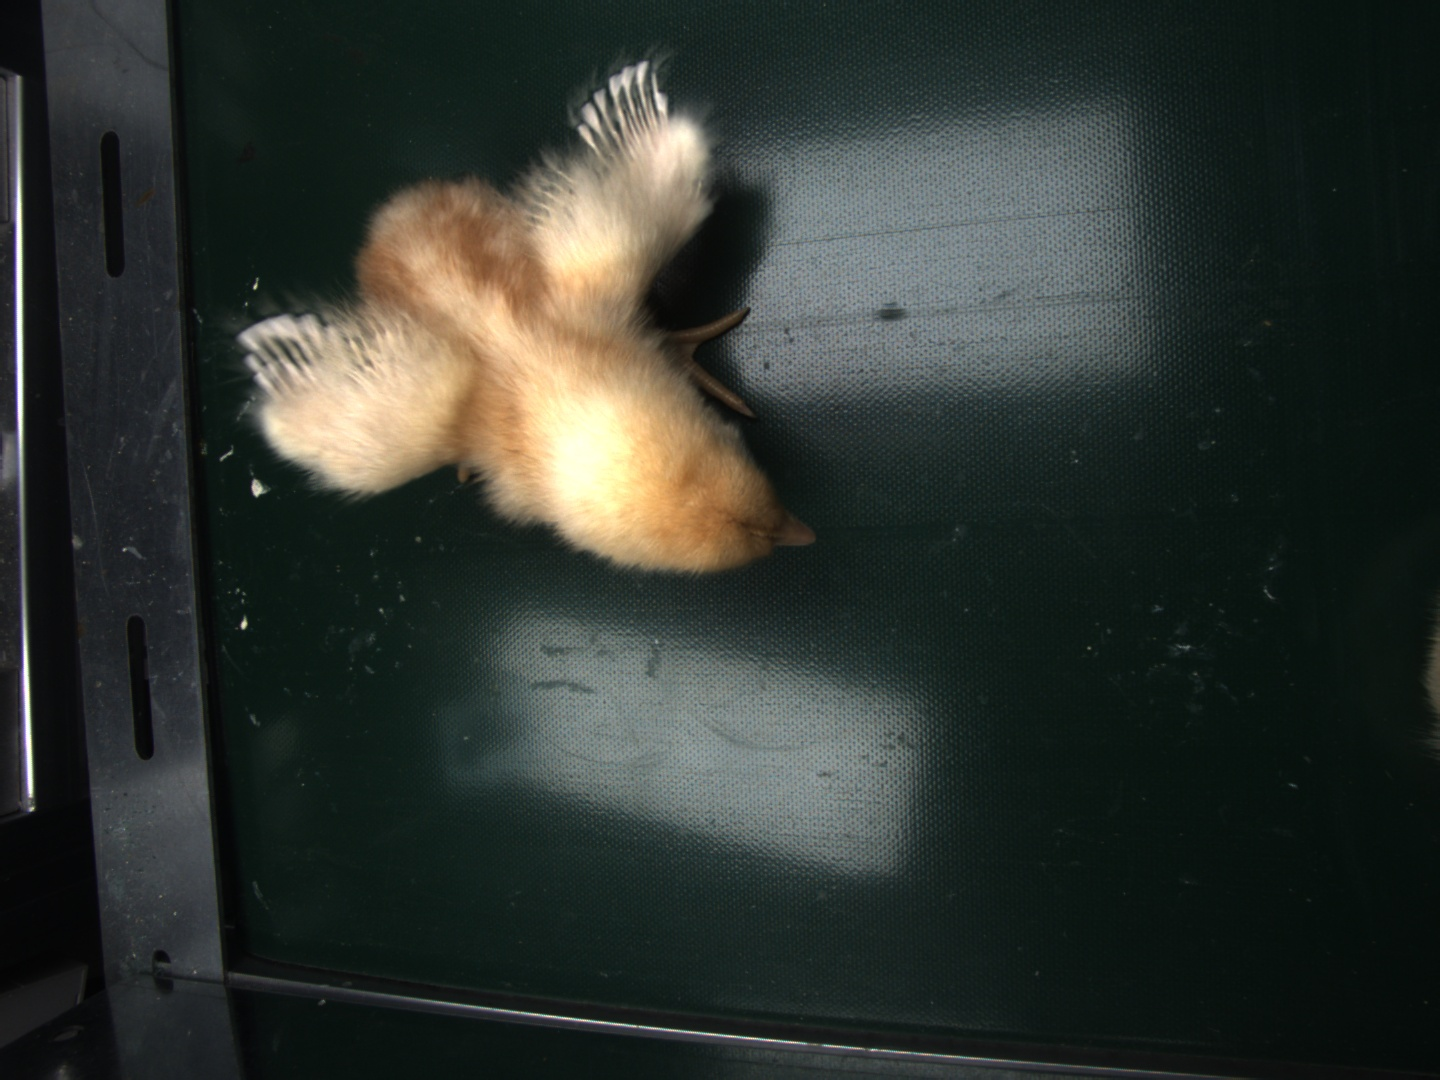female: (576, 64, 668, 157)
